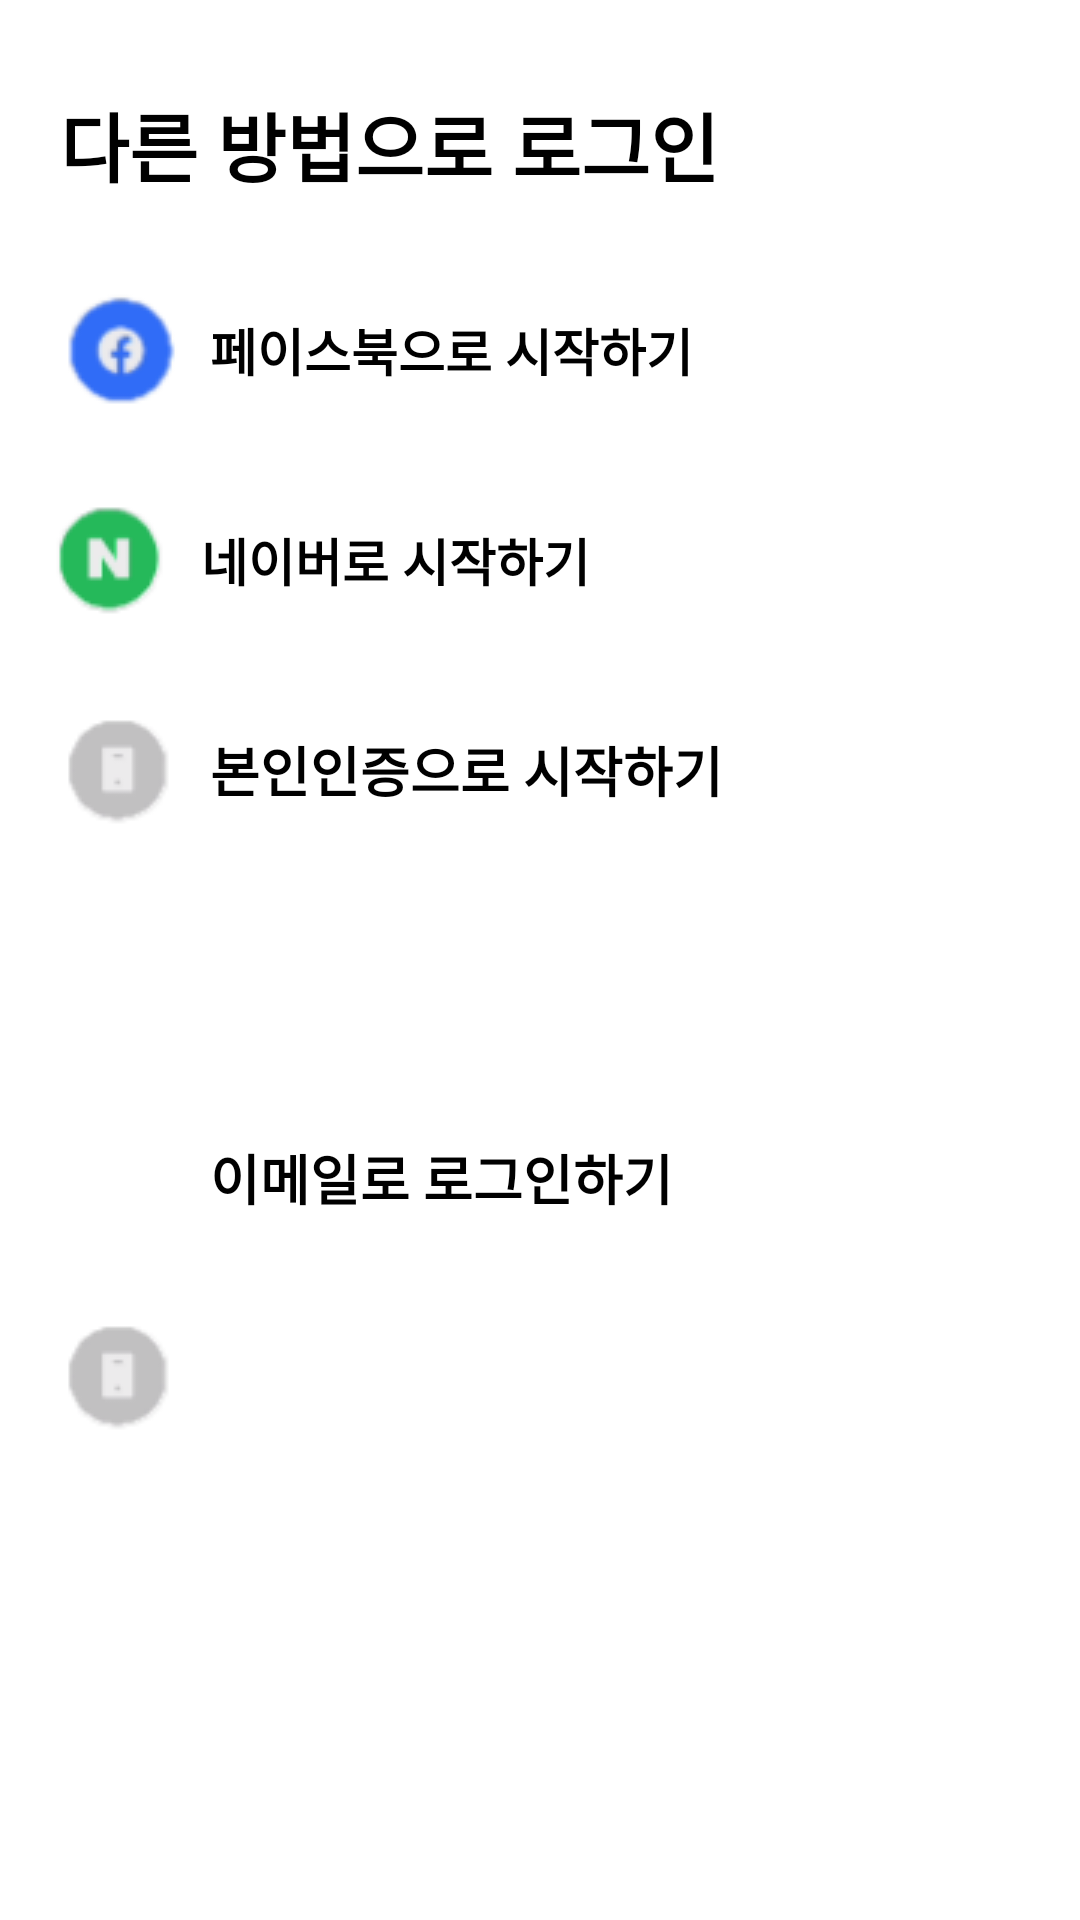

Named icons in this screenshot (1080 × 1920) and their bounding boxes, (x1, y1, x2, y2):
login phone: (69, 721, 166, 821), (69, 1327, 166, 1427)
